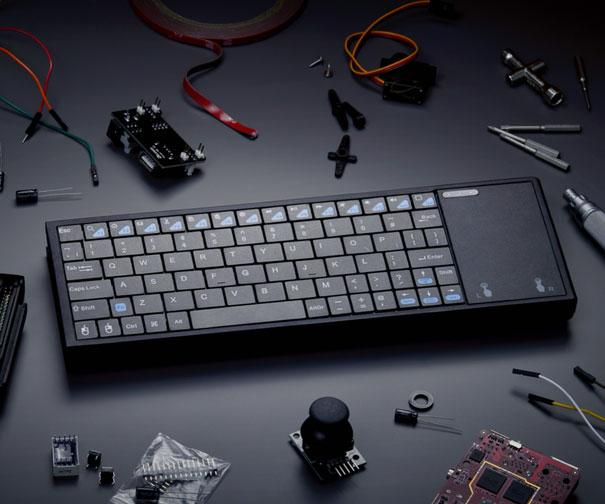keyboard: (43, 175, 576, 375)
